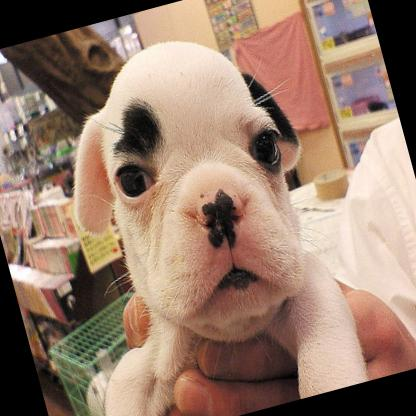French_bulldog: (8, 8, 371, 416)
